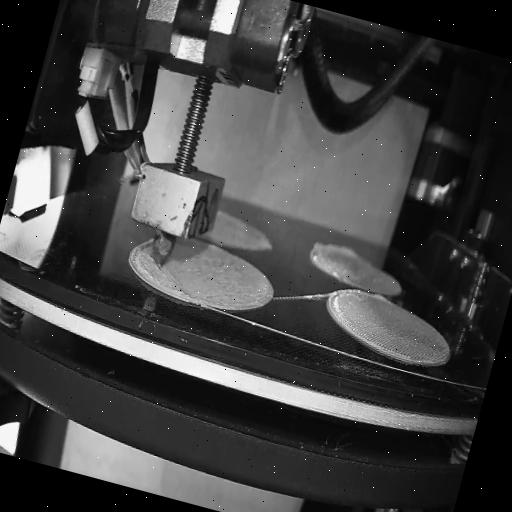over_extrusion: (310, 233, 362, 264), (123, 256, 158, 286), (136, 231, 155, 251), (369, 288, 392, 304)
